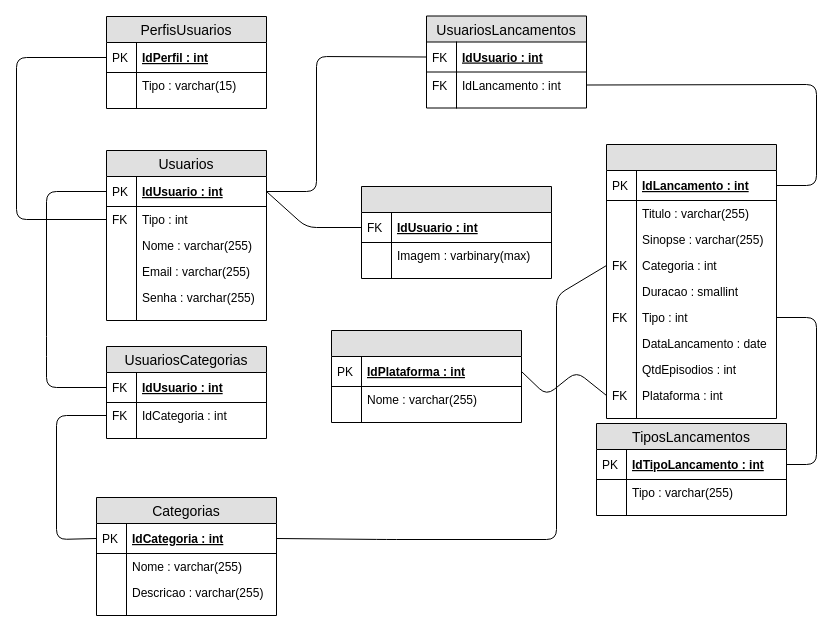
The diagram is 833 pixels wide and 632 high, and some of its shapes have lost their labels. The box of each missing label's shape, as (x1, y1, x2, y2) in pixels:
Lancamentos: (606, 144, 776, 418)
Plataformas: (330, 330, 522, 422)
UsuariosFotos: (360, 186, 552, 278)
